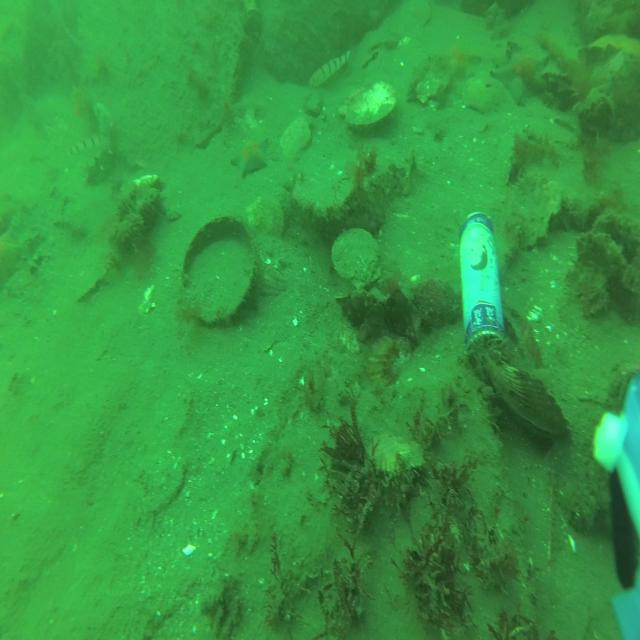holothurian: (86, 142, 109, 186)
scallop: (483, 361, 571, 439), (331, 226, 379, 289), (369, 436, 423, 477), (246, 193, 284, 248), (75, 243, 108, 304), (279, 117, 312, 158)
starfish: (492, 44, 550, 103), (230, 137, 269, 180)
